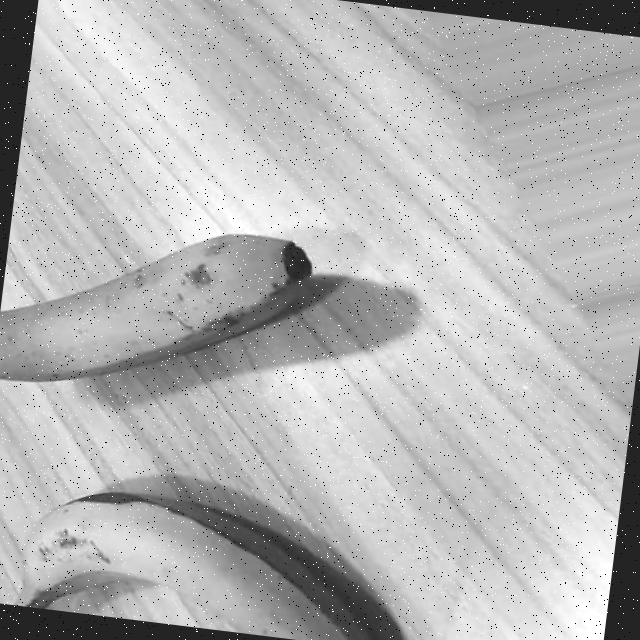Unripe: (0, 203, 318, 417), (12, 477, 397, 640)
